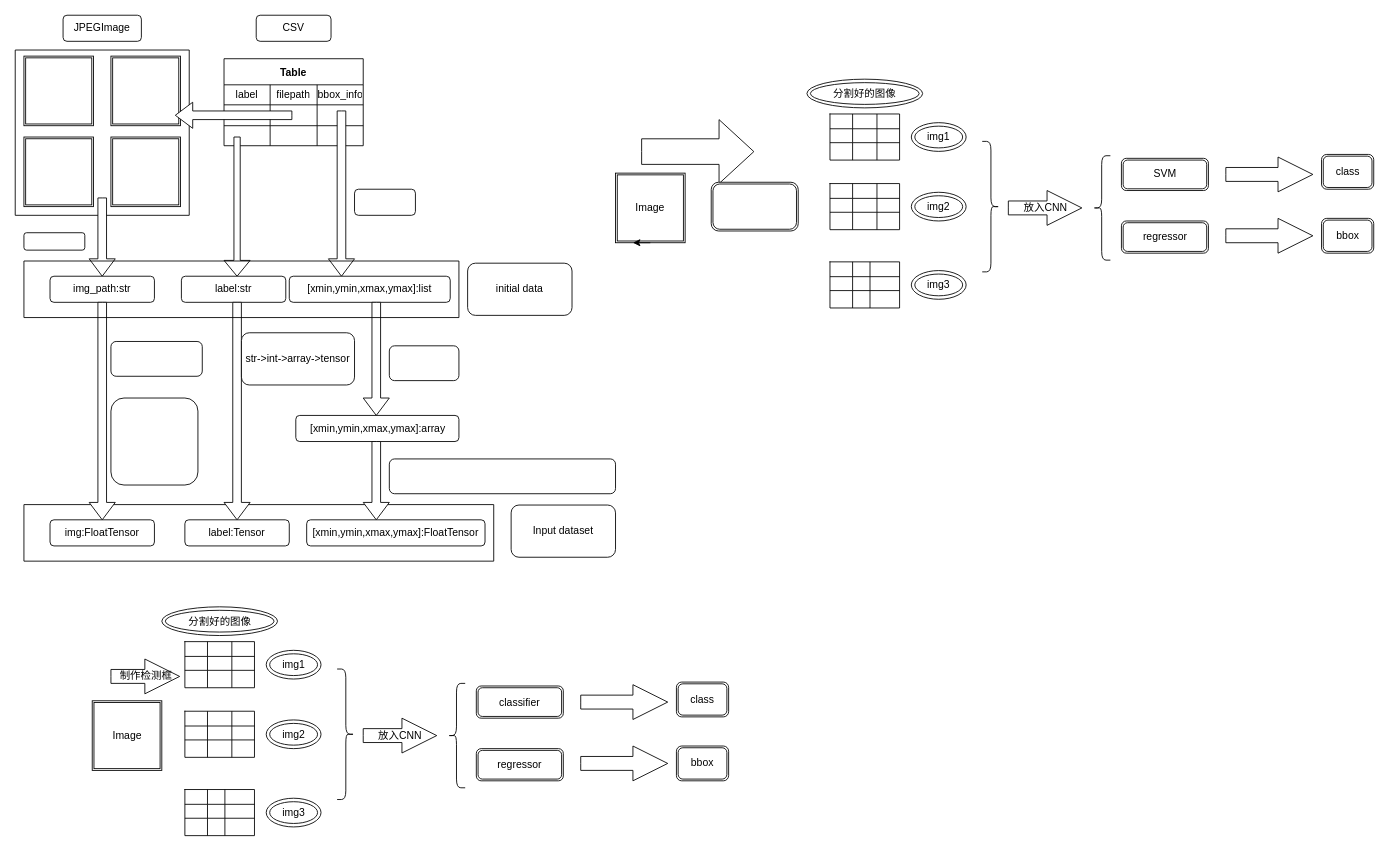
This 1389x851 diagram has some shape labels left out. Here are the shapes that lost their labels. From the top down, the centre of each, then its label:
the point at 697,151: 提取出候选区域
the point at 384,201: get bbox list
the point at 754,206: region proposal
the point at 54,241: get file
the point at 156,358: str->PIL object
the point at 423,363: list->array
the point at 154,441: PIL object->tensor->resize->range element in[0,1]
the point at 502,476: resize(same scalar as image)->to tensor->range between [0,1]
